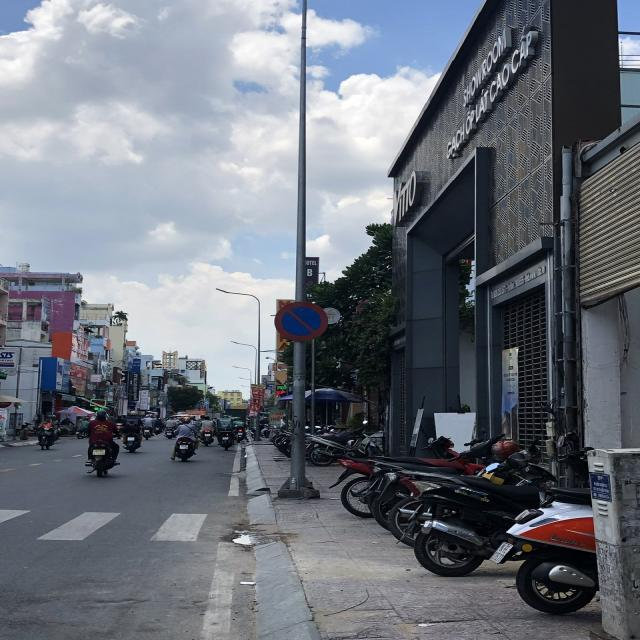Bien bao cam do xe: (271, 298, 332, 344)
